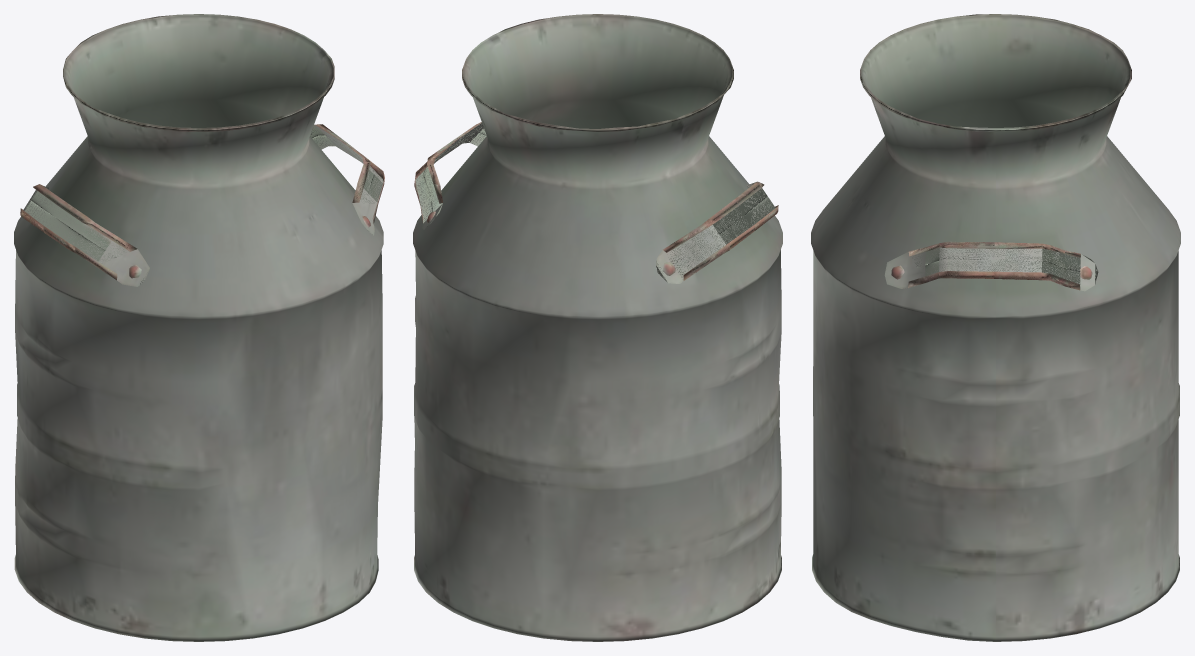
The model's file is metal_jug.glb.
The picture shows the model from 3 angles, left to right: view 1: azimuth 30°, elevation 25°; view 2: azimuth 150°, elevation 25°; view 3: azimuth 270°, elevation 25°; orthographic projection.
Parts seen in each view (by area): view 1: metal_jug; view 2: metal_jug; view 3: metal_jug.
Boxes of the visible parts, box(x1,y1,x2,y2) form: metal_jug: box(14, 14, 384, 641); metal_jug: box(413, 14, 782, 641); metal_jug: box(811, 14, 1180, 641).
Size of the model in its own units: 0.1968 by 0.2875 by 0.1955.
Materials: 1 (1 with a texture image).
